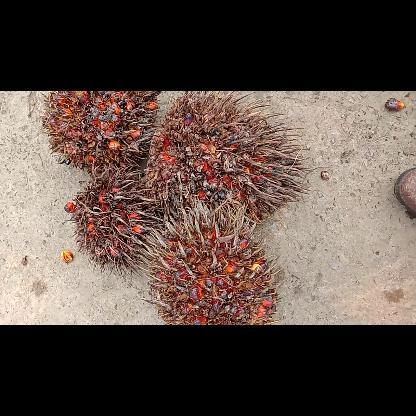Terlalu masak: (142, 91, 312, 230), (146, 198, 294, 324), (70, 160, 164, 282), (41, 91, 166, 179)
